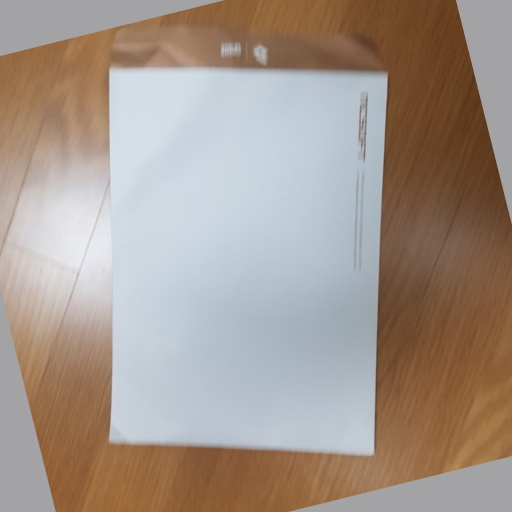Paper_2: (106, 23, 391, 469)
